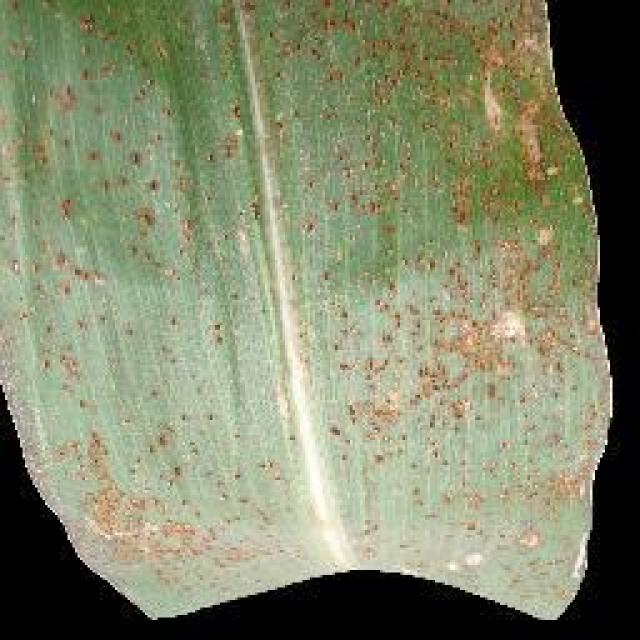Corn Common Rust: (72, 42, 548, 623)
